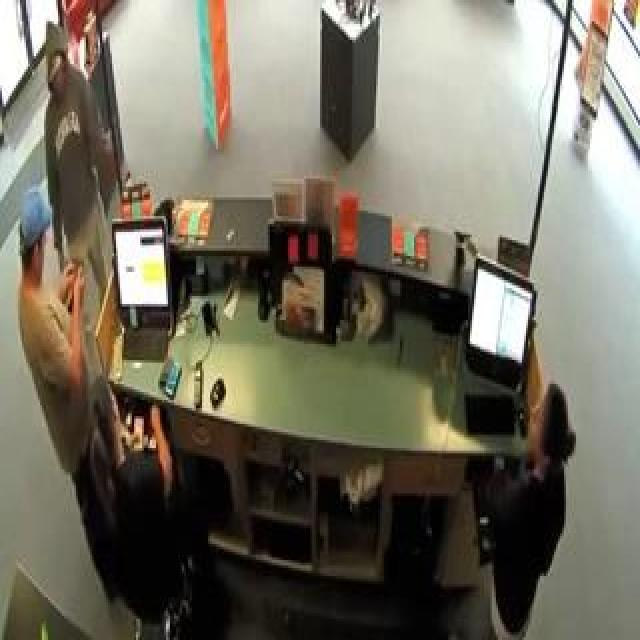high_con: (41, 21, 77, 110)
low_con: (15, 178, 56, 292)
no_con: (82, 367, 130, 466), (530, 379, 573, 479)
